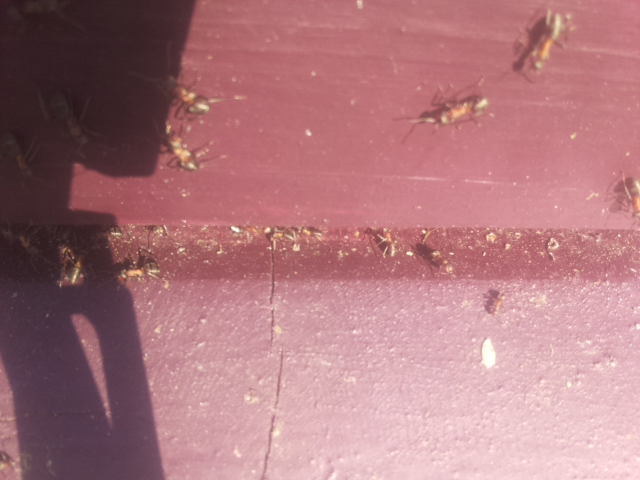ant: (37, 77, 99, 155), (523, 1, 575, 80), (160, 117, 203, 177), (429, 92, 489, 132), (166, 75, 216, 119), (53, 238, 89, 293), (617, 168, 640, 223), (119, 261, 166, 283), (481, 285, 506, 316), (375, 225, 398, 256)
